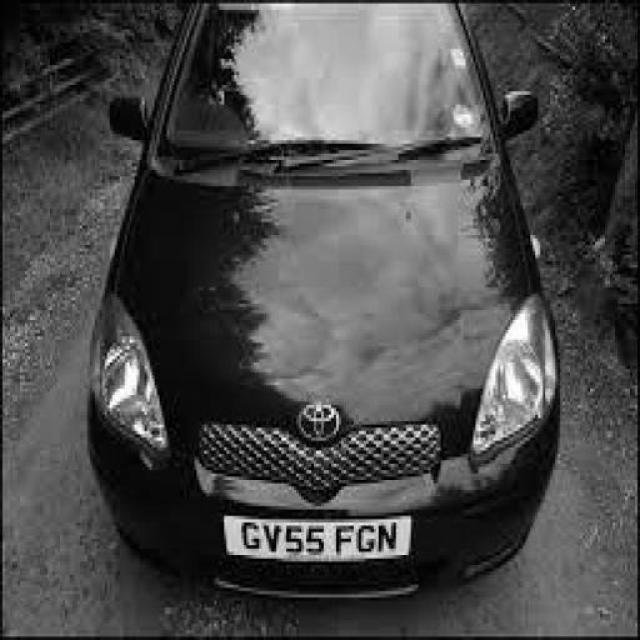dent: (239, 300, 354, 407)
